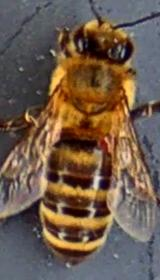varroa_mite: (96, 131, 120, 154)
